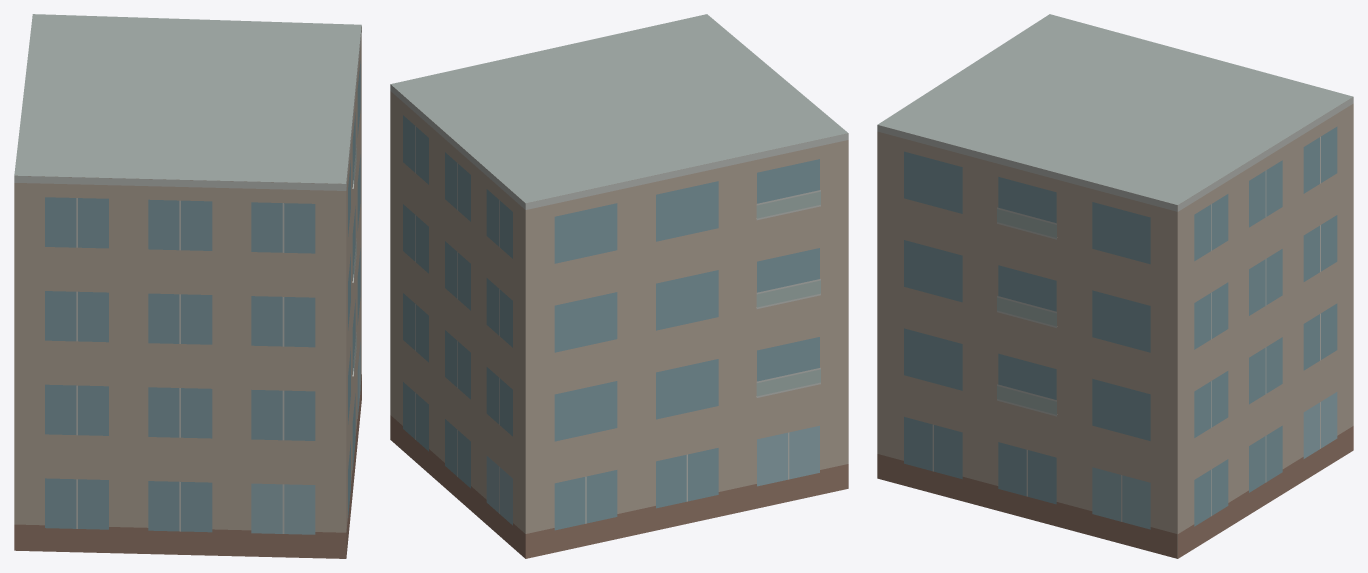
File: survey-upis-32524896.glb
3 views of the same model, side by side, from view 1: azimuth 30°, elevation 25°; view 2: azimuth 150°, elevation 25°; view 3: azimuth 270°, elevation 25° (orthographic). The views are drawn at different scales.
Visible parts, largest first — view 1: survey-upis-32524896.tmp; view 2: survey-upis-32524896.tmp; view 3: survey-upis-32524896.tmp.
Boxes of the visible parts, x1,y1,x2,y2 form: survey-upis-32524896.tmp: [14, 14, 361, 558]; survey-upis-32524896.tmp: [390, 14, 848, 558]; survey-upis-32524896.tmp: [877, 14, 1353, 558].
Size of the model in its own units: 14.85 by 12.8 by 15.63.
